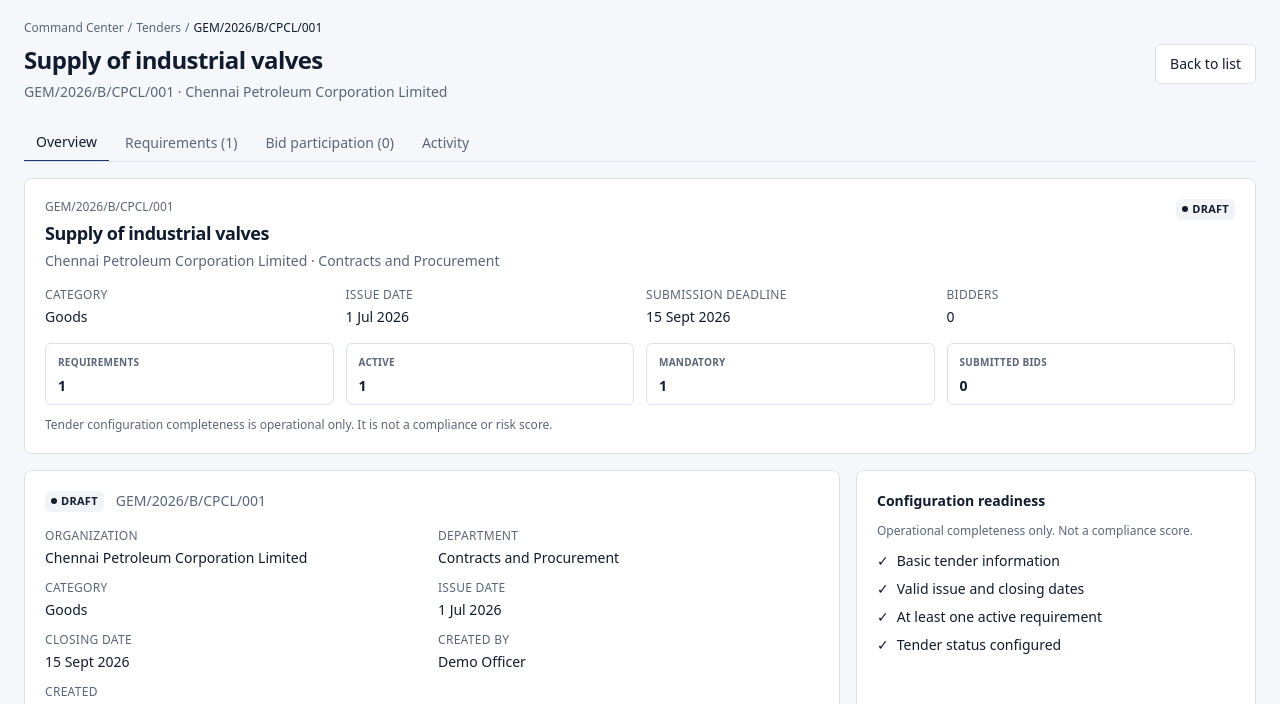
Scenario: TenderDetailPage › shows bid participation counts and an empty table on the participation tab
The width and height of the screenshot is (1280, 704).
Click the tab "Bid participation (0)": (330, 143) [253,124,406,162]
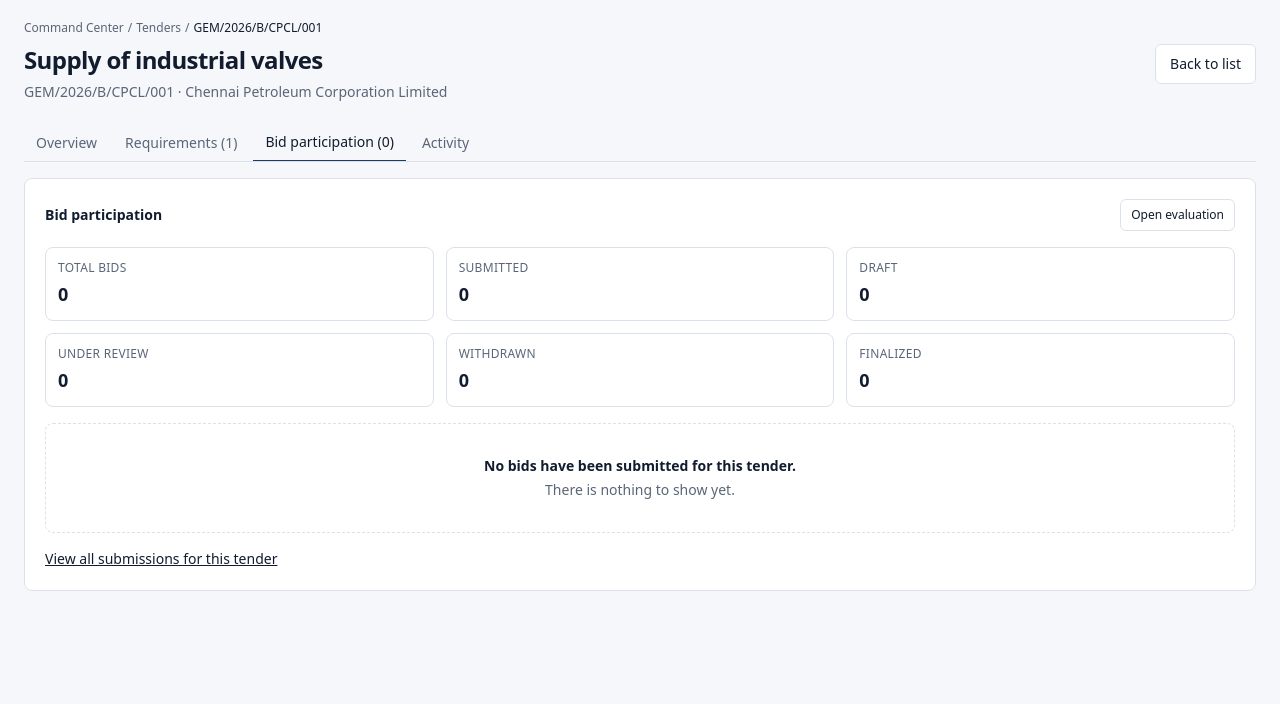
Check: the text "Draft" is shown, box [859,259,898,276]
Check: the text "No bids have been submitted for this tender." is shown, box [484,456,796,475]
Check: the text "Finalized" is shown, box [859,345,922,362]
